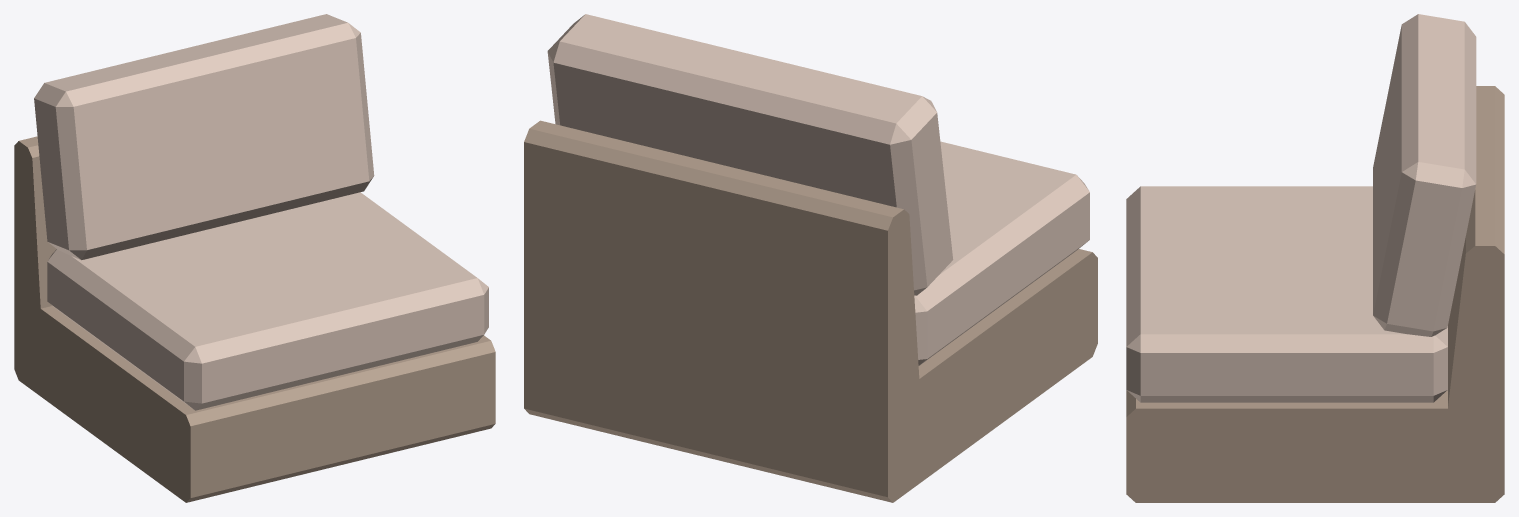
The model's file is Prop_Living_Room_Modular_Couch_Center.obj.
3 renders of one model, left to right at view 1: azimuth 30°, elevation 25°; view 2: azimuth 150°, elevation 25°; view 3: azimuth 270°, elevation 25°, orthographic. The views are drawn at different scales.
Parts seen in each view (by area): view 1: object1, object3, object2; view 2: object2, object3, object1; view 3: object1, object2, object3.
Part boxes in pixels (left/top/right/bottom): object1: left=47, top=192, right=488, bottom=410; object3: left=34, top=14, right=374, bottom=260; object2: left=14, top=136, right=495, bottom=502; object2: left=524, top=120, right=1097, bottom=502; object3: left=547, top=14, right=953, bottom=295; object1: left=914, top=141, right=1089, bottom=365; object1: left=1126, top=186, right=1447, bottom=402; object2: left=1126, top=86, right=1504, bottom=502; object3: left=1373, top=14, right=1476, bottom=336.
Bounding box in the file's own units: 1 × 0.9777 × 1.
